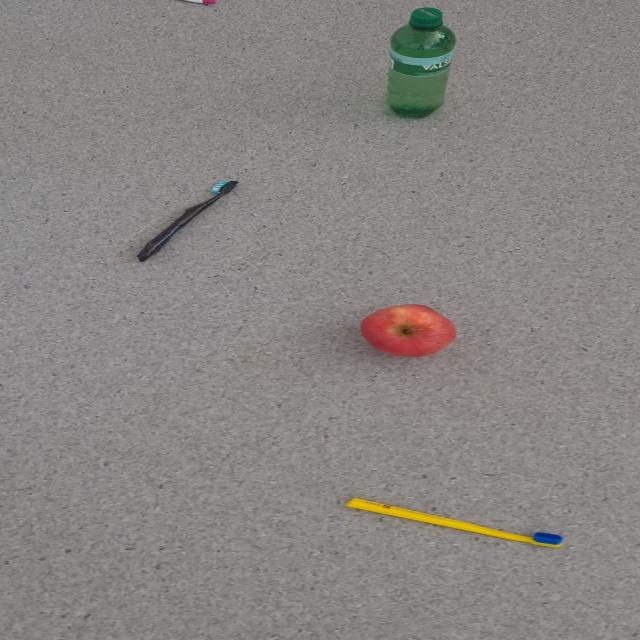apple: (359, 304, 456, 358)
bottle: (385, 7, 456, 118)
toothbrush: (344, 497, 564, 549), (135, 179, 238, 262)
